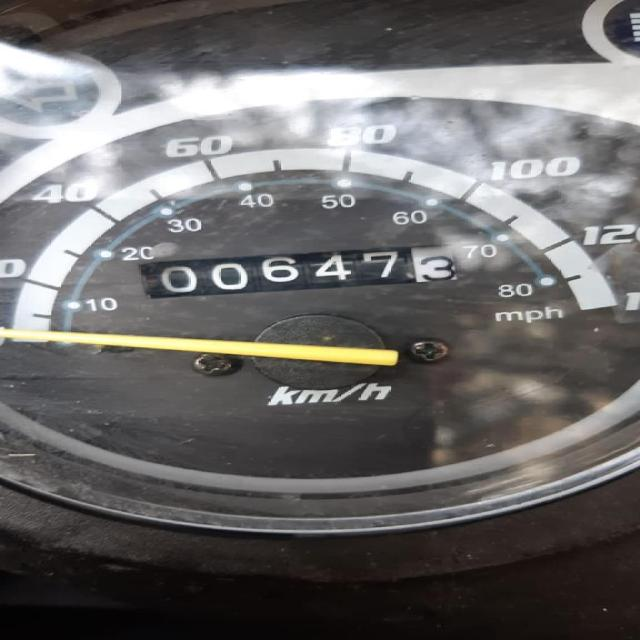odometer: (135, 240, 461, 300)
